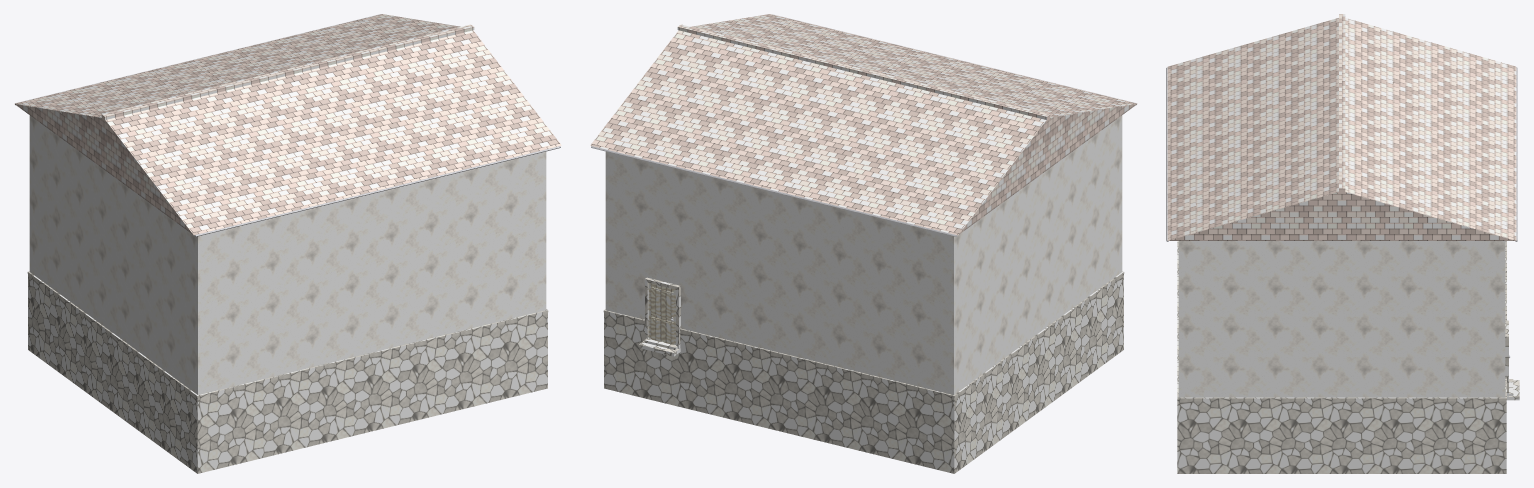
3 views of the same model, side by side, from view 1: azimuth 30°, elevation 25°; view 2: azimuth 150°, elevation 25°; view 3: azimuth 270°, elevation 25° (orthographic). The views are drawn at different scales.
Parts seen in each view (by area): view 1: b1086637706; view 2: b1086637706; view 3: b1086637706.
Boxes of the visible parts, x1,y1,x2,y2 form: b1086637706: [14, 14, 561, 473]; b1086637706: [590, 14, 1137, 473]; b1086637706: [1166, 14, 1519, 473].
Bounding box in the file's own units: 13.02 × 10.06 × 11.12.
11 materials, 11 textured.
